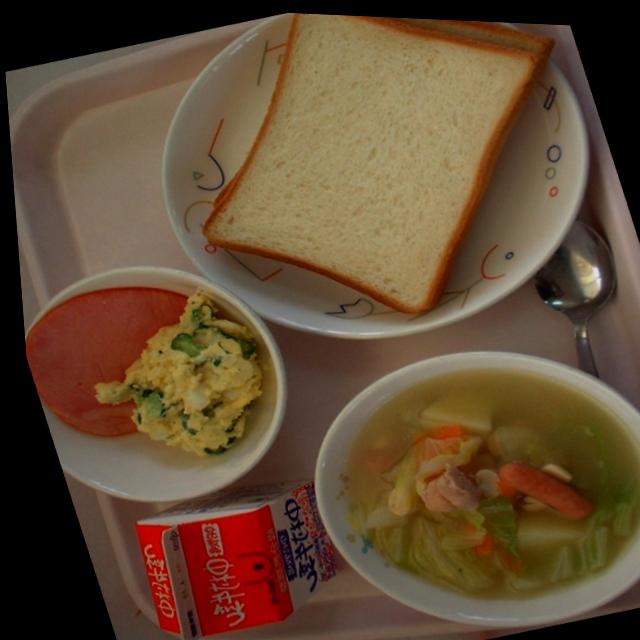蔬菜料理: (14, 243, 288, 512)
